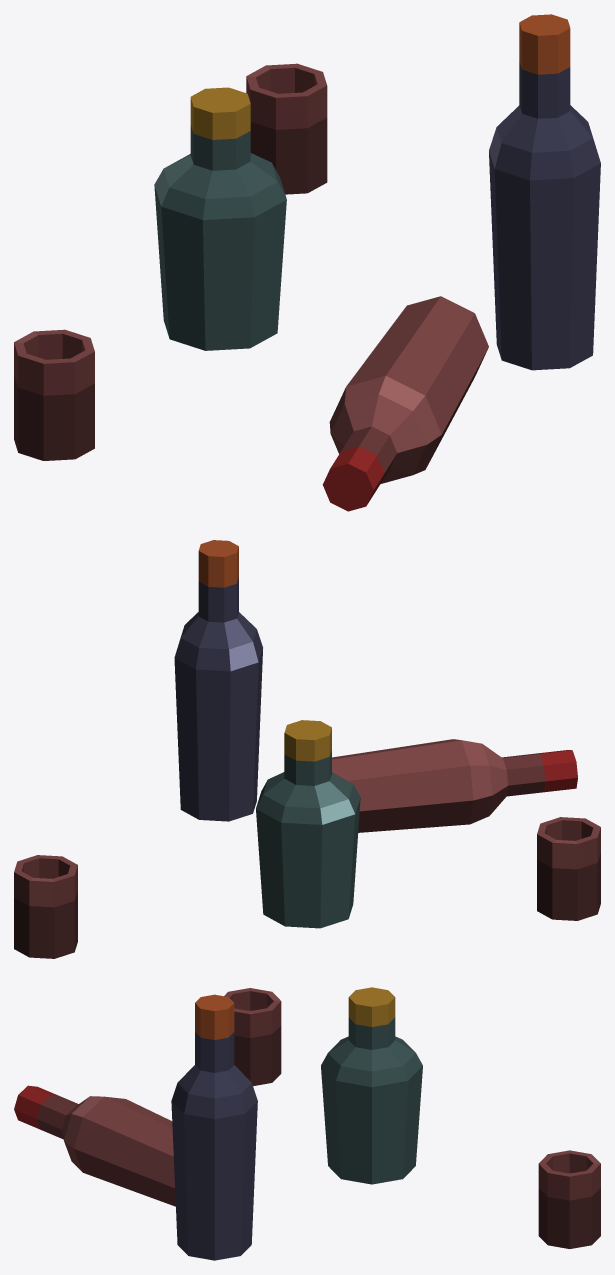
File: BG_TableOBJ.fbx
3 renders of one model, top to bottom at view 1: azimuth 30°, elevation 25°; view 2: azimuth 150°, elevation 25°; view 3: azimuth 270°, elevation 25°, orthographic. The views are drawn at different scales.
Visible parts, largest first — view 1: Object_Bottle_02; view 2: Object_Bottle_02; view 3: Object_Bottle_02.
Part boxes in pixels (bbox=[...]): Object_Bottle_02: bbox=[14, 14, 600, 511]; Object_Bottle_02: bbox=[14, 540, 600, 958]; Object_Bottle_02: bbox=[14, 987, 600, 1260].
Bounding box in the file's own units: 39.04 × 23.25 × 48.16.
Materials: 1 (1 with a texture image).
